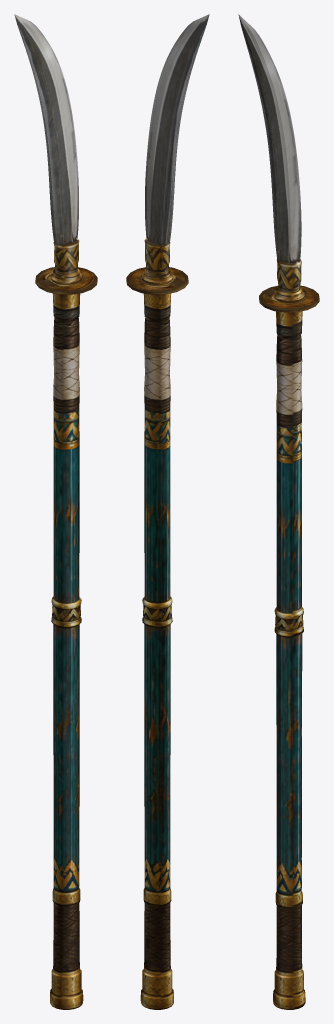
Rendered from Naginata_LowPoly_v1.glb.
The picture shows the model from 3 angles, left to right: view 1: azimuth 30°, elevation 25°; view 2: azimuth 150°, elevation 25°; view 3: azimuth 330°, elevation 25°; orthographic projection. The views are drawn at different scales.
Parts seen in each view (by area): view 1: Naginata_LowPoly.001; view 2: Naginata_LowPoly.001; view 3: Naginata_LowPoly.001.
Boxes of the visible parts, box(x1,y1,x2,y2) form: Naginata_LowPoly.001: box(14, 14, 97, 1009); Naginata_LowPoly.001: box(126, 14, 209, 1009); Naginata_LowPoly.001: box(238, 14, 319, 1009).
Bounding box in the file's own units: 0.1739 × 2.1 × 0.12.
Materials: 5 (5 with a texture image).
